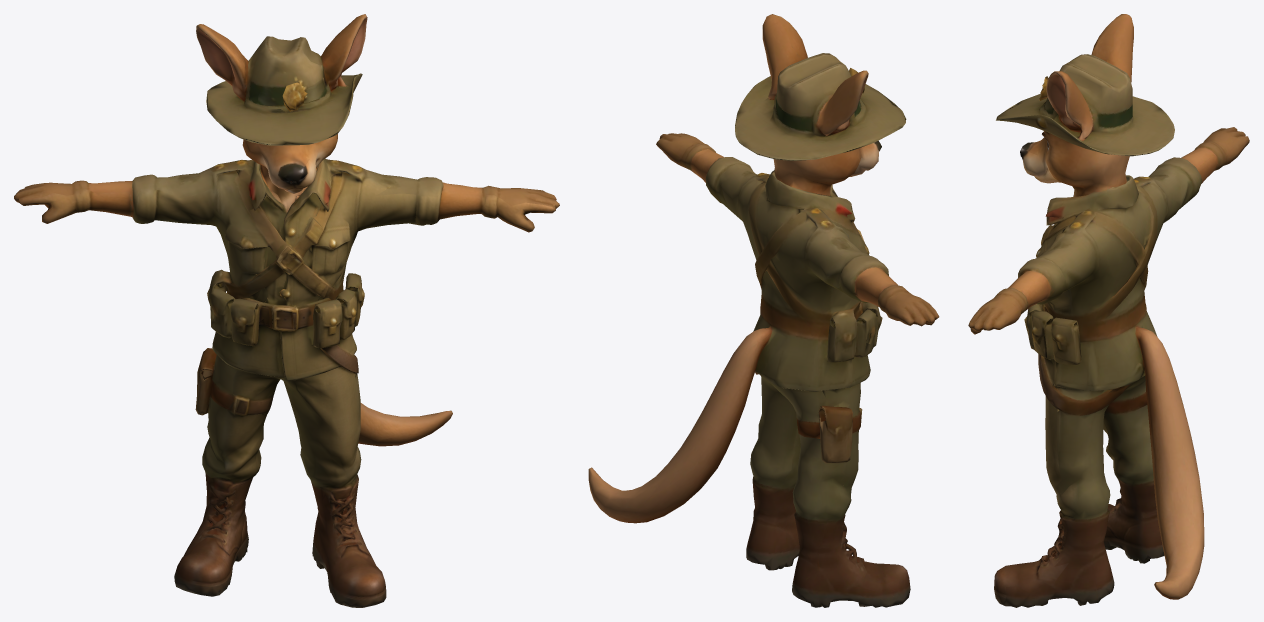
Rendered from kangav1.glb.
3 renders of one model, left to right at view 1: azimuth 30°, elevation 25°; view 2: azimuth 150°, elevation 25°; view 3: azimuth 270°, elevation 25°, orthographic. The views are drawn at different scales.
Parts seen in each view (by area): view 1: Mesh_0.001; view 2: Mesh_0.001; view 3: Mesh_0.001.
Part boxes in pixels (box(x1,y1,x2,y2)): Mesh_0.001: box(14, 14, 559, 607); Mesh_0.001: box(588, 14, 939, 607); Mesh_0.001: box(968, 14, 1249, 607).
Bounding box in the file's own units: 0.6622 × 0.8599 × 0.4077.
1 material, 1 textured.
